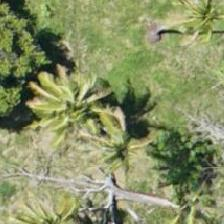coconut_tree: (111, 93, 201, 183), (60, 63, 150, 153), (110, 0, 200, 75)
